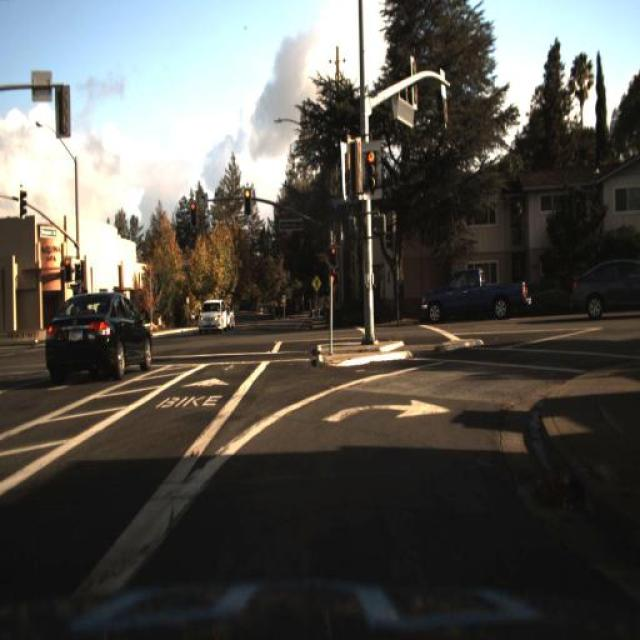car: (40, 288, 154, 387), (416, 262, 534, 328), (572, 258, 639, 321), (197, 296, 228, 332), (225, 302, 243, 334)
trafficLight-RedLeft: (361, 146, 379, 194), (242, 183, 254, 216), (327, 242, 338, 270)
trafficLight-Yellow: (62, 254, 73, 285), (188, 197, 200, 225)
